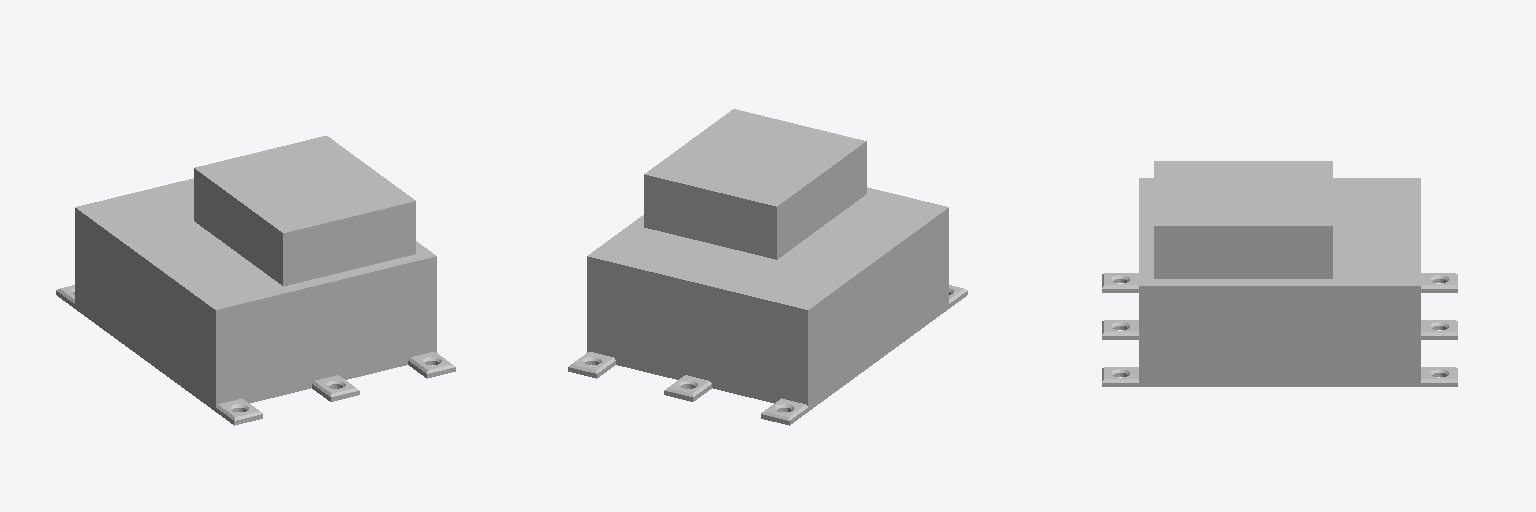
File: Datatransmissiontransmitter.obj
3 views of the same model, side by side, from view 1: azimuth 30°, elevation 25°; view 2: azimuth 150°, elevation 25°; view 3: azimuth 270°, elevation 25° (orthographic).
Visible parts, largest first — view 1: Box226, Box223; view 2: Box226, Box223; view 3: Box226, Box223.
Boxes of the visible parts, box(x1,y1,x2,y2) form: Box226: box(75, 136, 436, 411); Box223: box(56, 285, 455, 425); Box226: box(587, 109, 948, 411); Box223: box(568, 285, 967, 425); Box226: box(1139, 161, 1420, 386); Box223: box(1102, 273, 1457, 386).
Size of the model in its own units: 10.65 by 7.11 by 14.86.